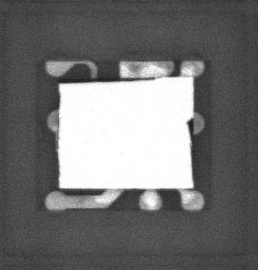DIE_BROKEN: (57, 77, 163, 83), (185, 116, 194, 168)
